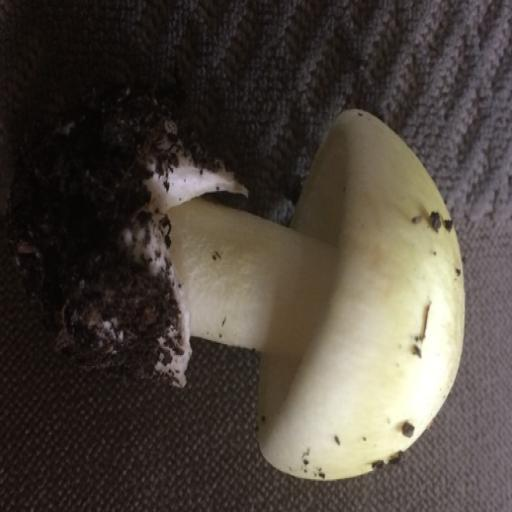mushroom: (0, 82, 484, 489)
